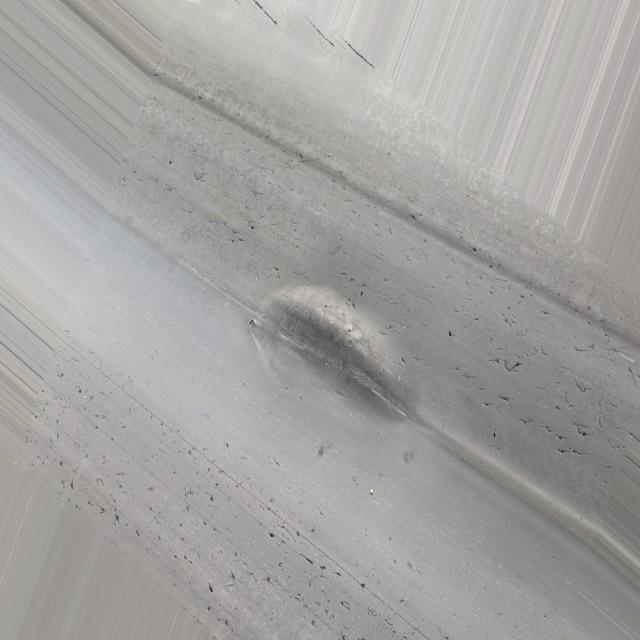impact damage: (249, 280, 426, 439)
